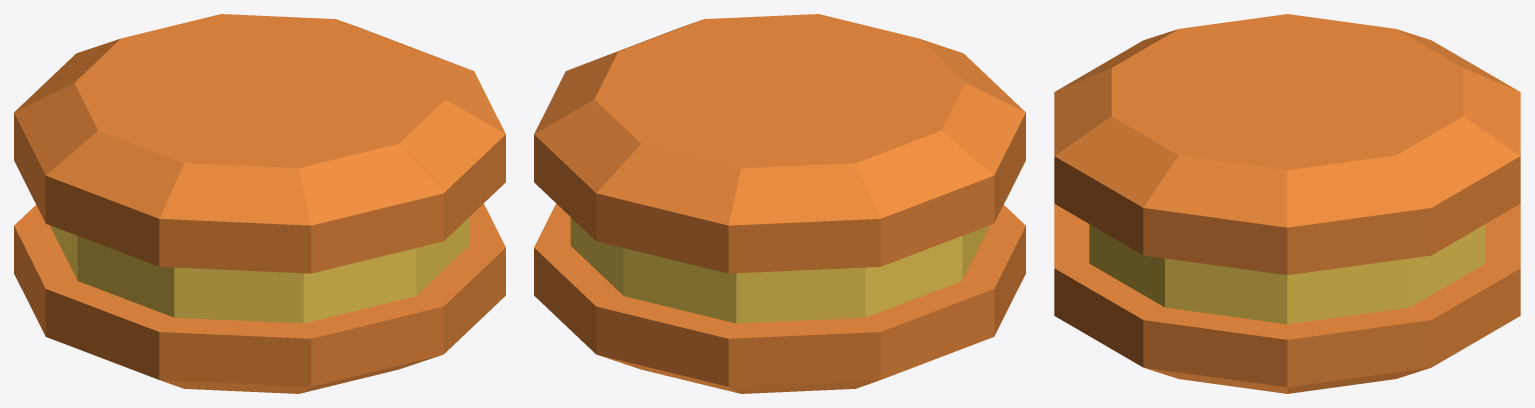
The model's file is macaron04.fbx.
The picture shows the model from 3 angles, left to right: view 1: azimuth 30°, elevation 25°; view 2: azimuth 150°, elevation 25°; view 3: azimuth 270°, elevation 25°; orthographic projection.
Parts seen in each view (by area): view 1: macaron04; view 2: macaron04; view 3: macaron04.
Boxes of the visible parts, left/top/right/bottom form: macaron04: left=14, top=14, right=505, bottom=393; macaron04: left=534, top=14, right=1025, bottom=393; macaron04: left=1054, top=14, right=1520, bottom=393.
Bounding box in the file's own units: 80.55 × 40.56 × 76.61.
1 material, 1 textured.
